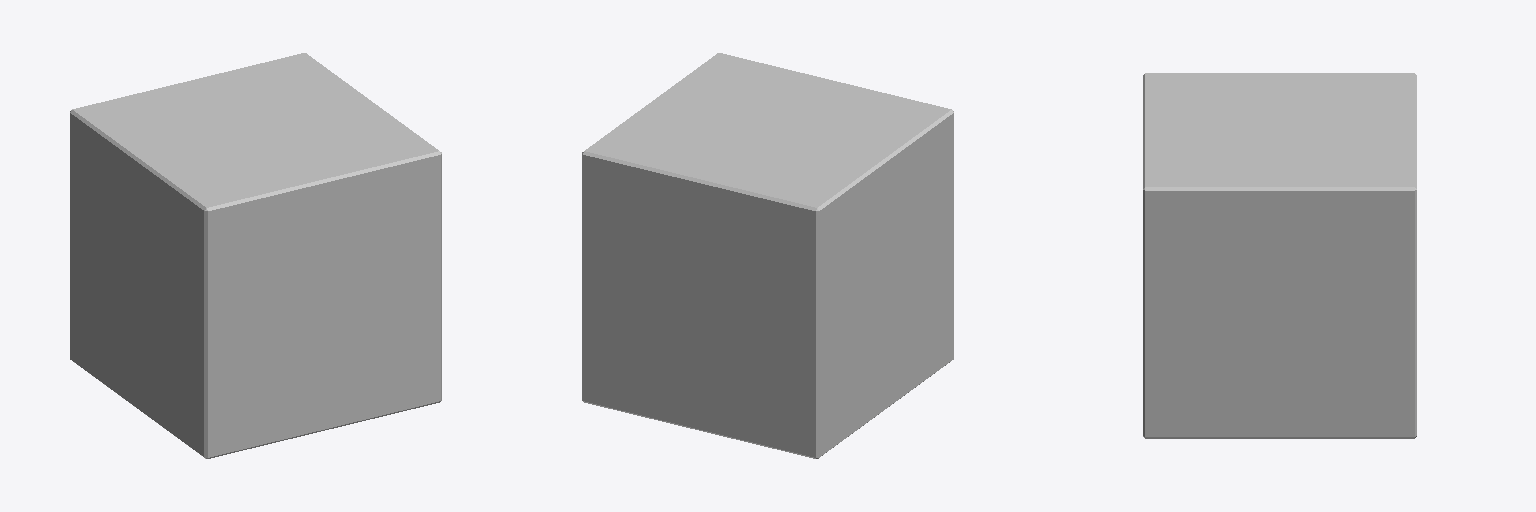
The picture shows the model from 3 angles: view 1: azimuth 30°, elevation 25°; view 2: azimuth 150°, elevation 25°; view 3: azimuth 270°, elevation 25°; orthographic projection.
Parts seen in each view (by area): view 1: convex_0; view 2: convex_0; view 3: convex_0.
Part boxes in pixels (left/top/right/bottom): convex_0: left=70, top=53, right=441, bottom=458; convex_0: left=582, top=53, right=953, bottom=458; convex_0: left=1143, top=73, right=1416, bottom=438.
Size of the model in its own units: 0.0876 by 0.0885 by 0.0876.